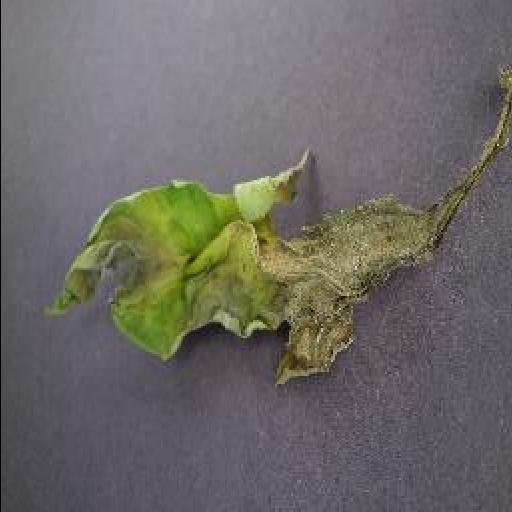disease_tomato: (44, 66, 512, 386)
